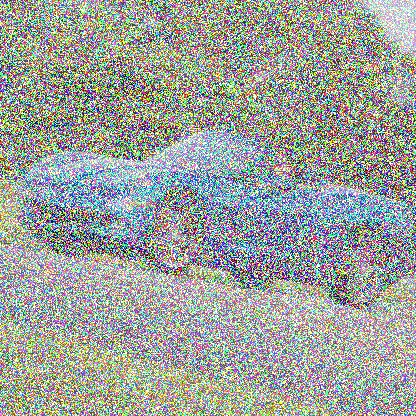Vehicle: (18, 127, 412, 310)
